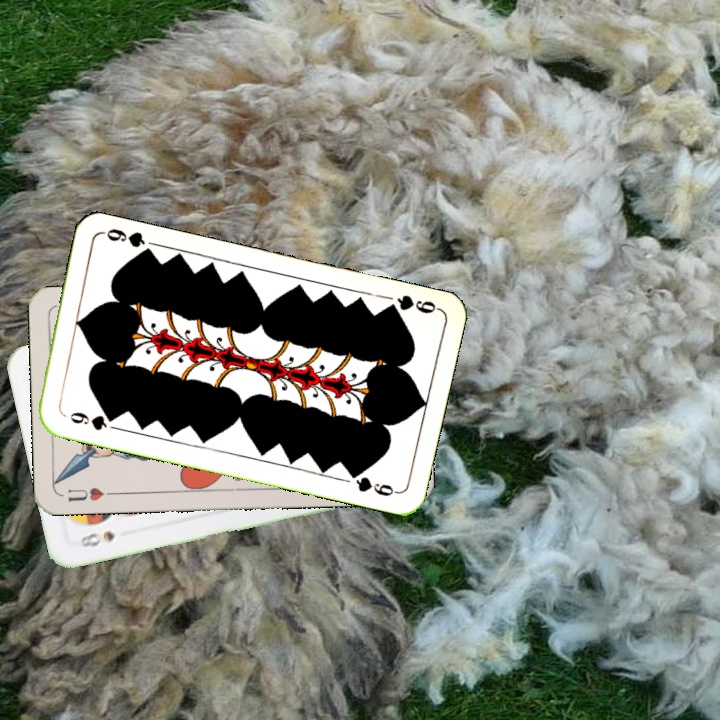G9: (380, 290, 441, 316), (65, 408, 119, 433)
HU: (64, 483, 118, 504)
S8: (76, 527, 117, 550)
